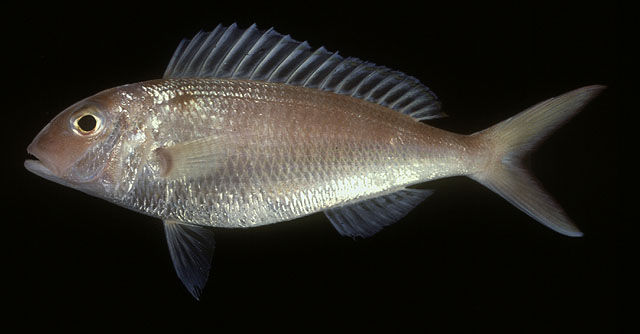fish: (23, 22, 607, 300)
